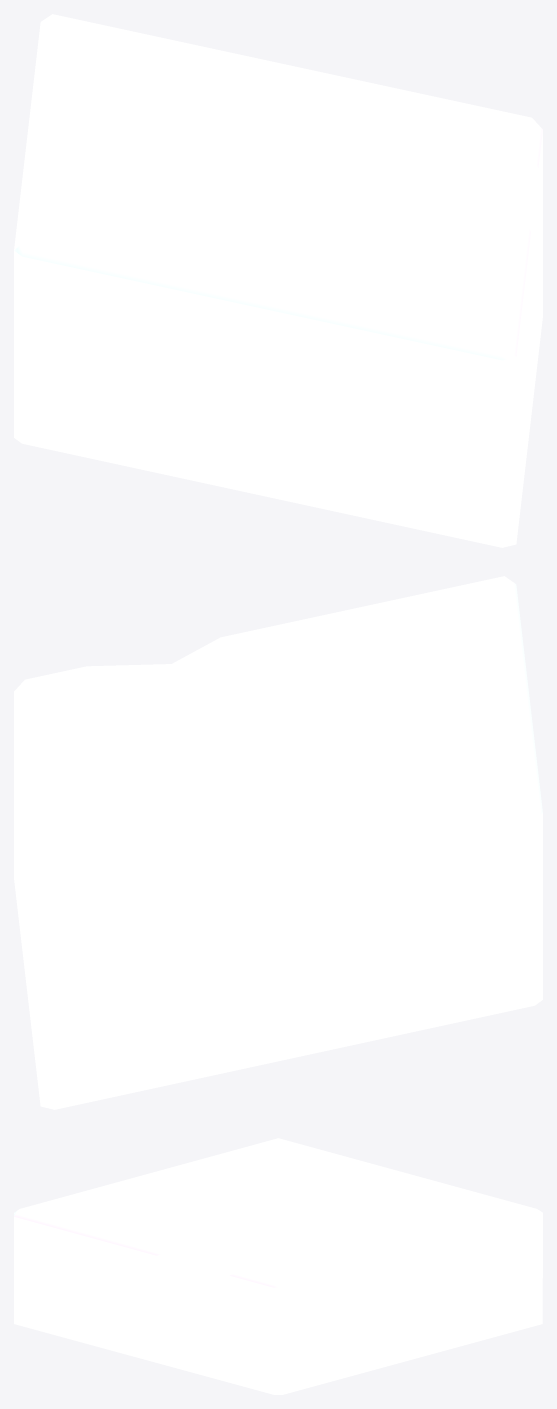
3 views of the same model, one above another, from view 1: azimuth 30°, elevation 25°; view 2: azimuth 150°, elevation 25°; view 3: azimuth 270°, elevation 25° (orthographic). The views are drawn at different scales.
Parts seen in each view (by area): view 1: SM_SpikeyPlant_01_LOD0; view 2: SM_SpikeyPlant_01_LOD0; view 3: SM_SpikeyPlant_01_LOD0.
Boxes of the visible parts, x1,y1,x2,y2 form: SM_SpikeyPlant_01_LOD0: [14, 14, 542, 547]; SM_SpikeyPlant_01_LOD0: [14, 576, 542, 1109]; SM_SpikeyPlant_01_LOD0: [14, 1138, 542, 1394].
Bounding box in the file's own units: 0.1401 × 0.0508 × 0.2152.
